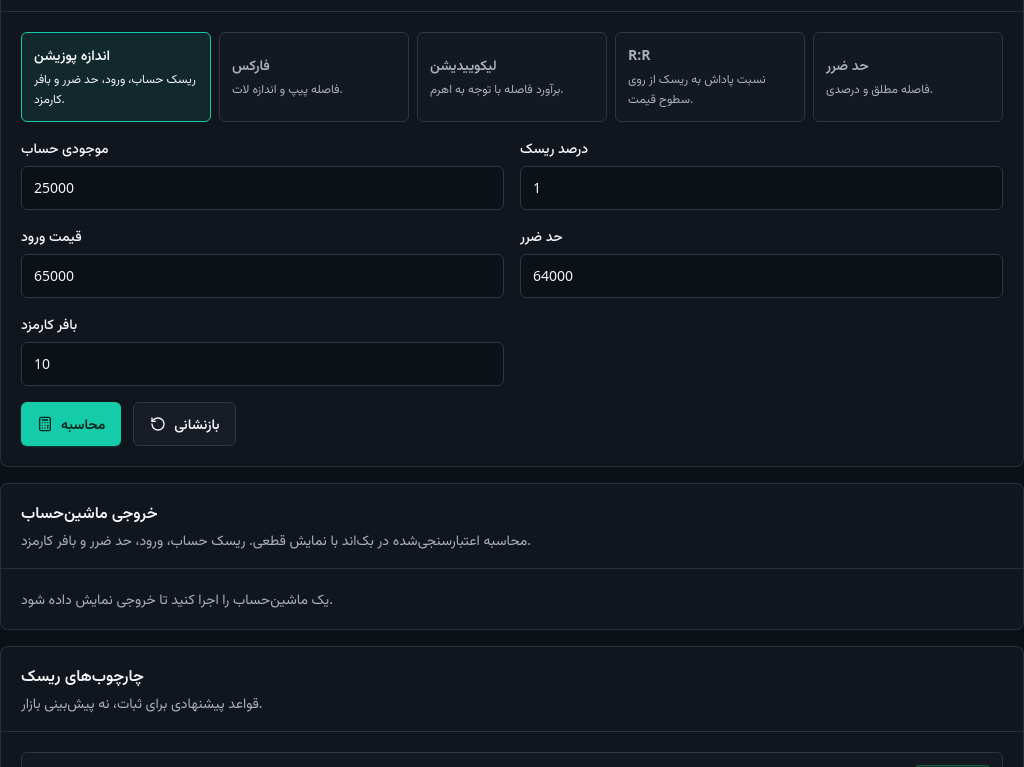
Test: RiskScreen explains a rejected calculation › says in Persian that the stop loss must differ from the entry price (nested calculator error)
(page scrolled)
What coordinates should you click on to do the following:
click the button "محاسبه"
I would click on:
 (71, 424)
Its box is [21,402,121,446].
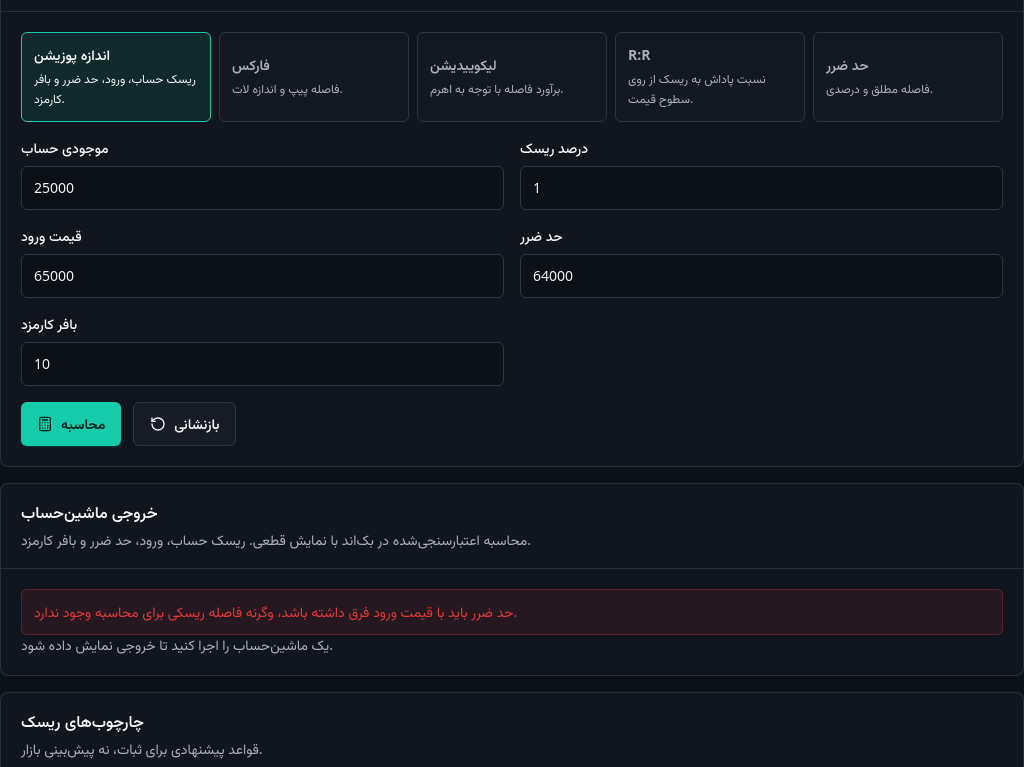
Check: the message shows "حد ضرر", box [34,602,517,621]
Check: the message shows "قیمت ورود", box [34,602,517,621]
